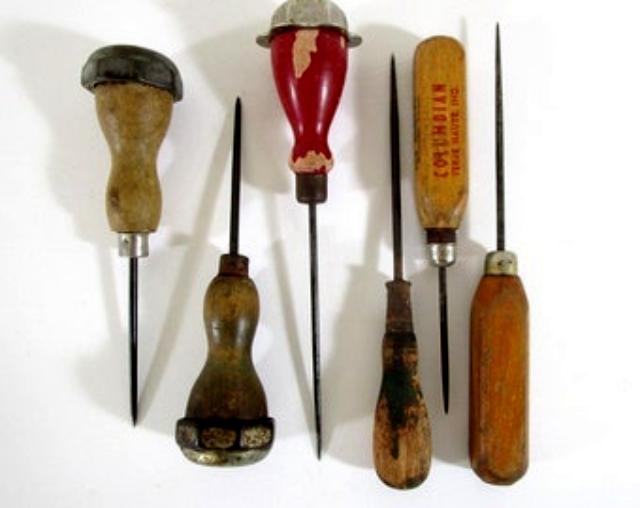ice pick: (256, 0, 364, 462), (80, 44, 184, 428), (176, 96, 274, 468), (469, 19, 531, 485), (375, 51, 433, 491), (414, 34, 470, 414)
